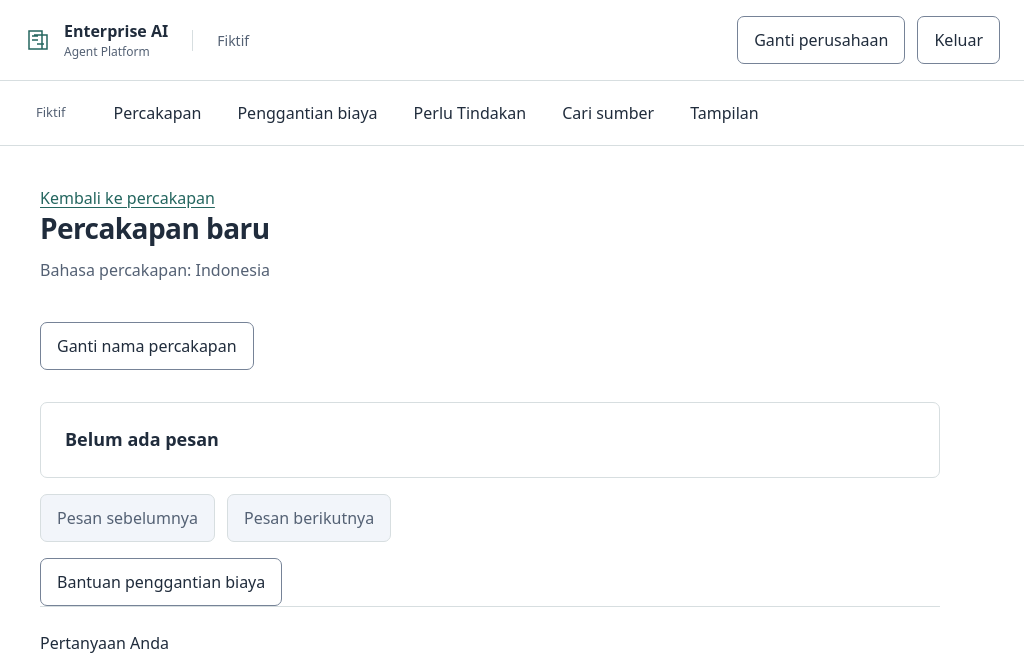
Test: keeps a mismatched rename receipt unknown before settlement
This screenshot has width=1024, height=654.
Click the button "Ganti nama percakapan" at {"x": 147, "y": 346}, box [40,322,254,370]
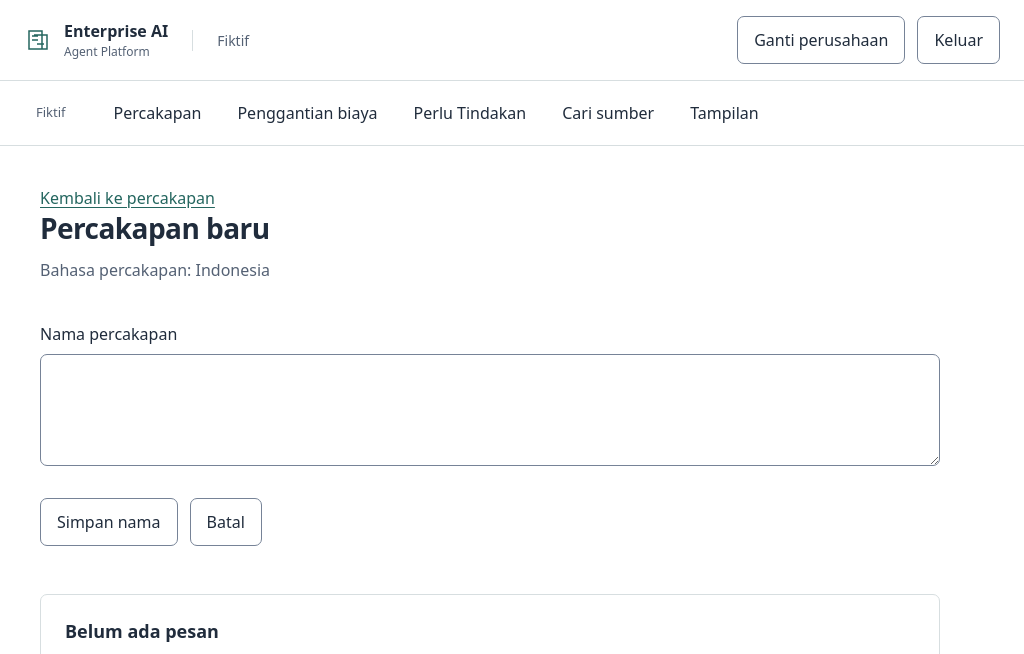
Type "Nama" into the text box labelled "Nama percakapan" at {"x": 490, "y": 410}, box [40,354,940,466]
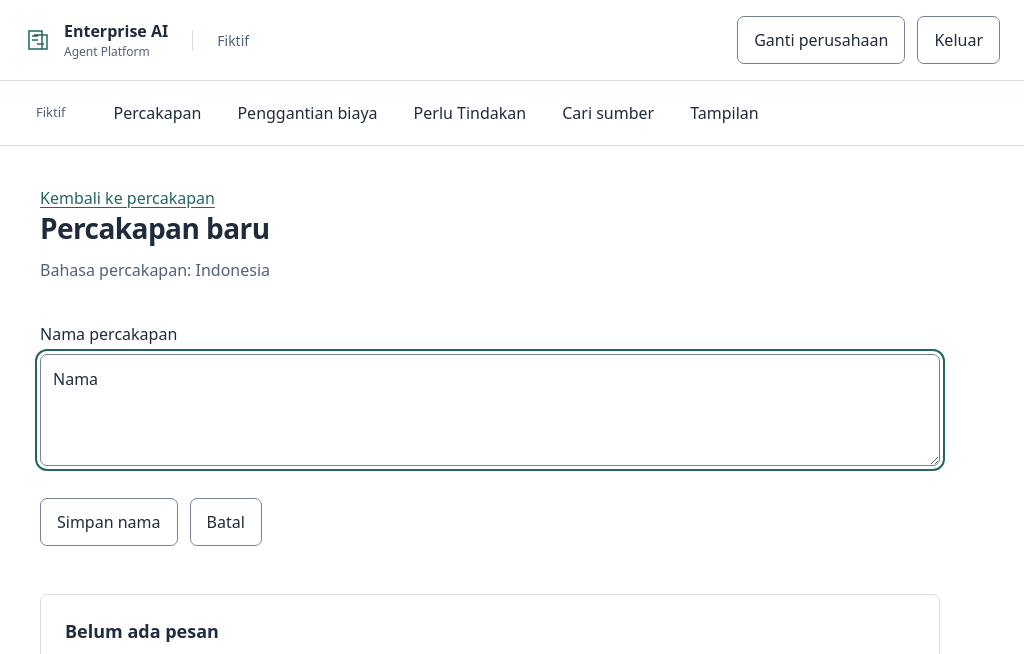
Click the button "Simpan nama" at {"x": 109, "y": 522}, box [40,498,178,546]
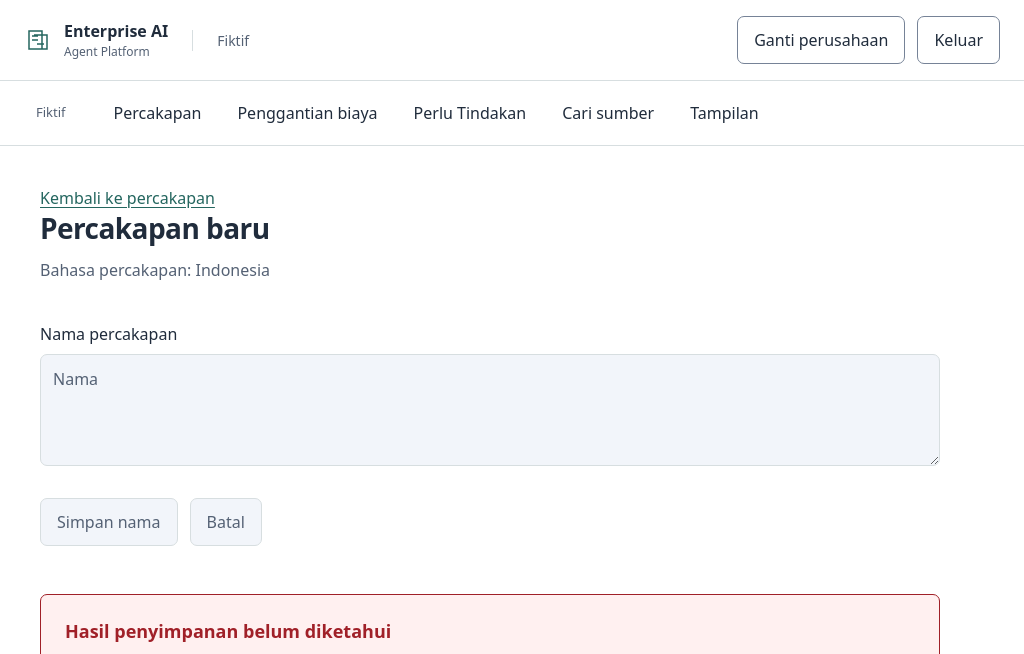
Expected: the heading "Hasil penyimpanan belum diketahui" is shown, [65,619,391,643]
Expected: the text box labelled "Nama percakapan" is disabled, [40,354,940,466]
